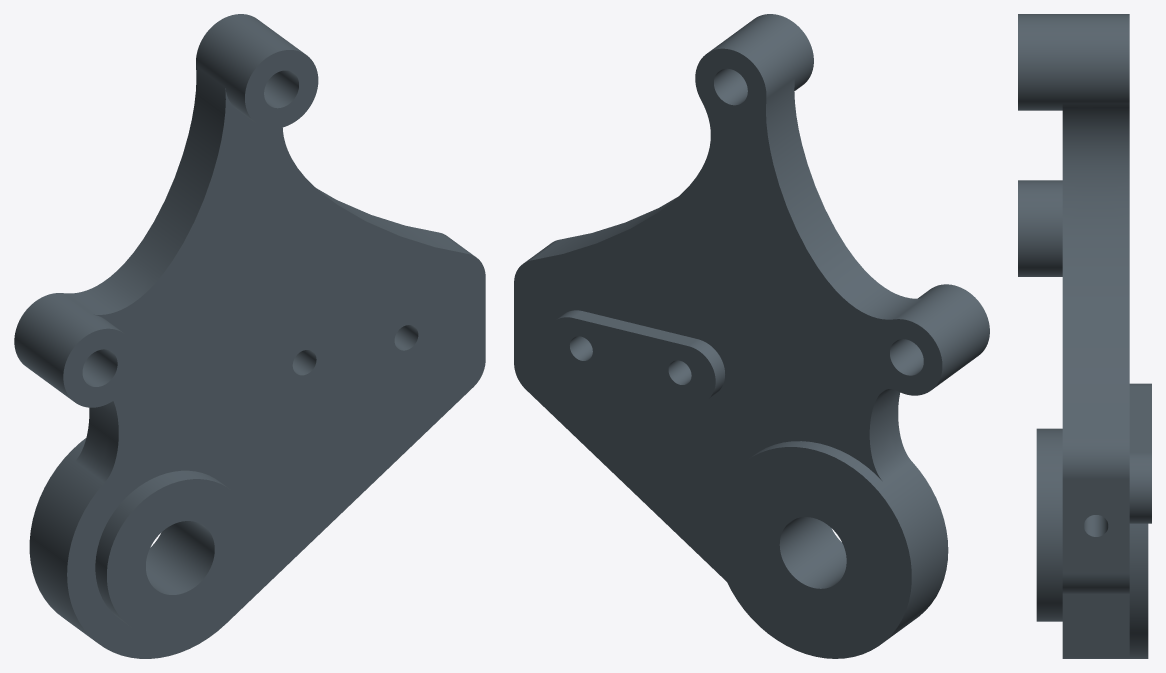
The model's file is dropout_left.glb.
3 views of the same model, side by side, from view 1: azimuth 30°, elevation 25°; view 2: azimuth 150°, elevation 25°; view 3: azimuth 270°, elevation 25° (orthographic). The views are drawn at different scales.
Visible parts, largest first — view 1: dropout_left; view 2: dropout_left; view 3: dropout_left.
Boxes of the visible parts, x1,y1,x2,y2 form: dropout_left: (14,14,485,658); dropout_left: (514,14,989,658); dropout_left: (1018,14,1151,658).
Bounding box in the file's own units: 78.13 × 101 × 18.
